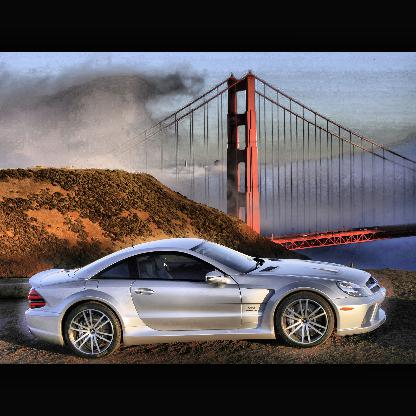Mercedes-Benz SL-Class Coupe 2009: (26, 238, 389, 361)
